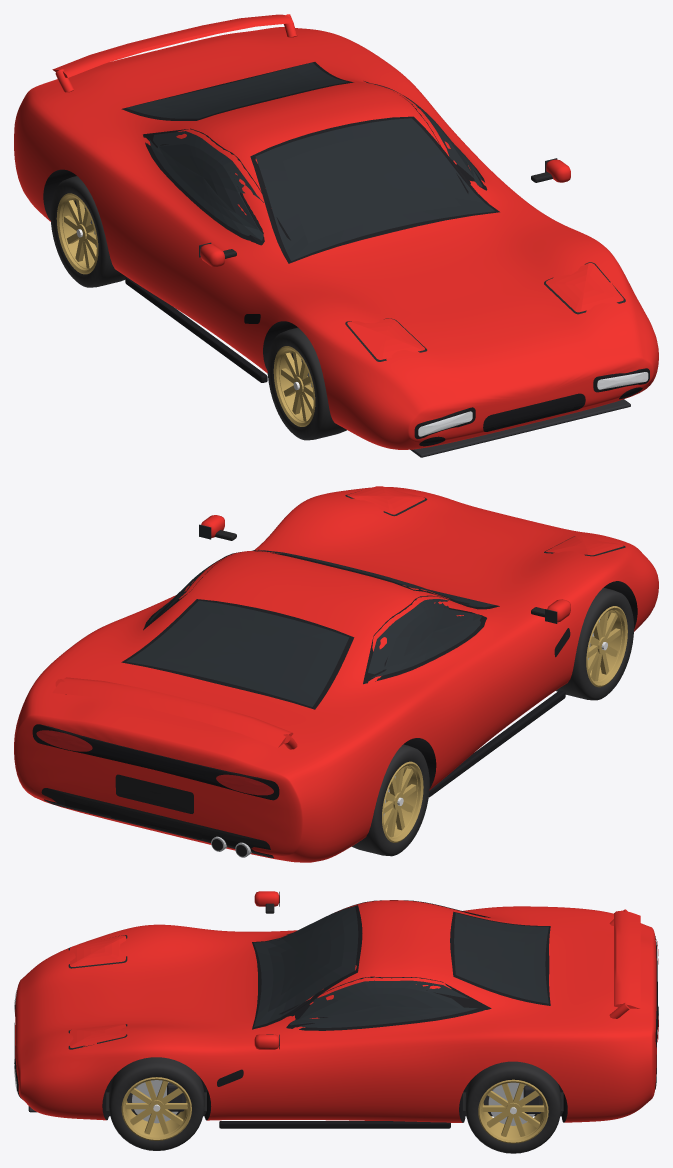
Rendered from rotor_fx.glb.
The picture shows the model from 3 angles, top to bottom: view 1: azimuth 30°, elevation 25°; view 2: azimuth 150°, elevation 25°; view 3: azimuth 270°, elevation 25°; orthographic projection. The views are drawn at different scales.
Visible parts, largest first — view 1: RotorBody, WheelFLTyre, WheelRLTyre, WheelRLRims, WheelFLRims; view 2: RotorBody, WheelFLTyre, WheelRLTyre, WheelRLRims, WheelFLRims; view 3: RotorBody, WheelFRTyre, WheelRRTyre, WheelRRRims, WheelFRRims.
Boxes of the visible parts, x1,y1,x2,y2 form: RotorBody: (14,14,658,457); WheelFLTyre: (267,327,346,440); WheelRLTyre: (50,176,126,287); WheelRLRims: (56,193,98,274); WheelFLRims: (273,346,315,426); RotorBody: (14,486,658,862); WheelFLTyre: (556,587,633,700); WheelRLTyre: (351,744,429,856); WheelRLRims: (382,761,423,842); WheelFLRims: (586,606,627,687); RotorBody: (14,891,658,1128); WheelFRTyre: (109,1057,204,1150); WheelRRTyre: (465,1061,561,1153); WheelRRRims: (478,1079,548,1143); WheelFRRims: (121,1077,191,1140).
Bounding box in the file's own units: 2.4 × 1.17 × 4.39.
